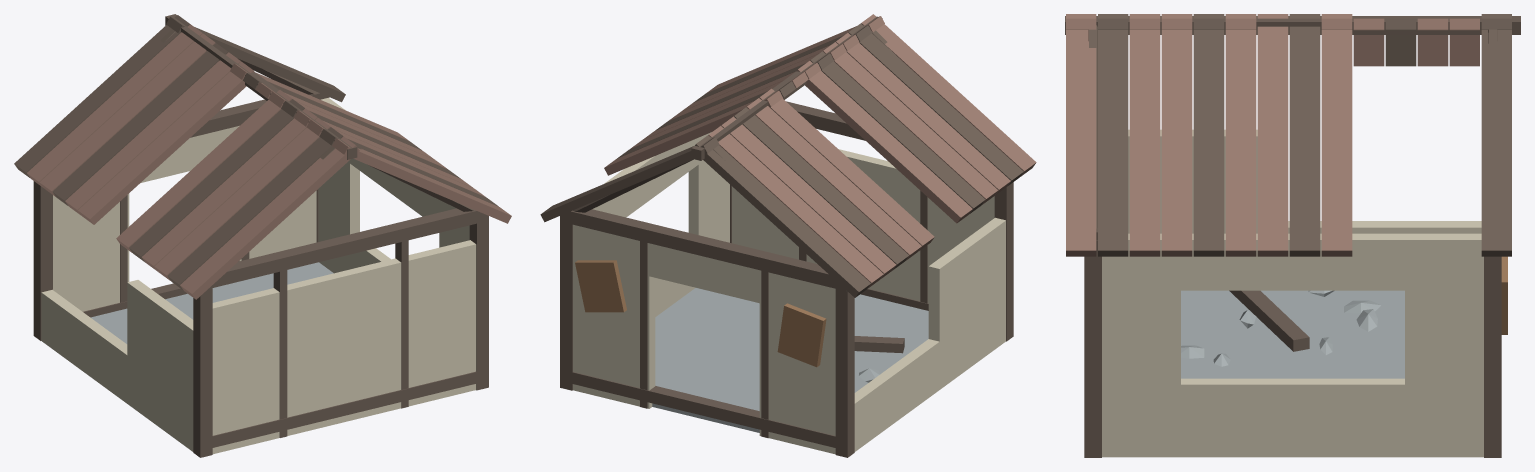
Rendered from house_granary_broken.glb.
3 renders of one model, left to right at view 1: azimuth 30°, elevation 25°; view 2: azimuth 150°, elevation 25°; view 3: azimuth 270°, elevation 25°, orthographic. The views are drawn at different scales.
Parts seen in each view (by area): view 1: house_granary_broken; view 2: house_granary_broken; view 3: house_granary_broken.
Boxes of the visible parts, left/top/right/bottom form: house_granary_broken: left=14, top=14, right=511, bottom=457; house_granary_broken: left=540, top=14, right=1036, bottom=457; house_granary_broken: left=1065, top=14, right=1520, bottom=457.
Bounding box in the file's own units: 5.79 × 4.88 × 5.7.
